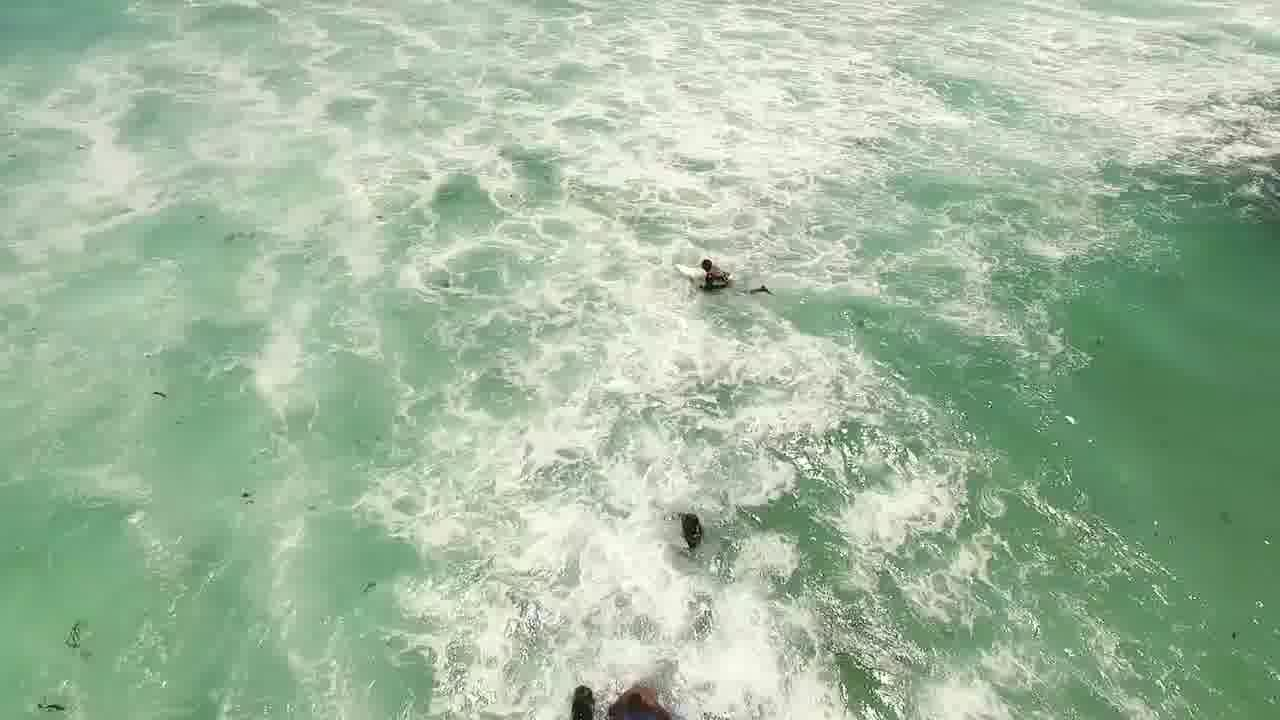swimmer: (544, 669, 600, 715), (682, 242, 740, 284), (669, 499, 713, 548), (617, 680, 668, 720)
